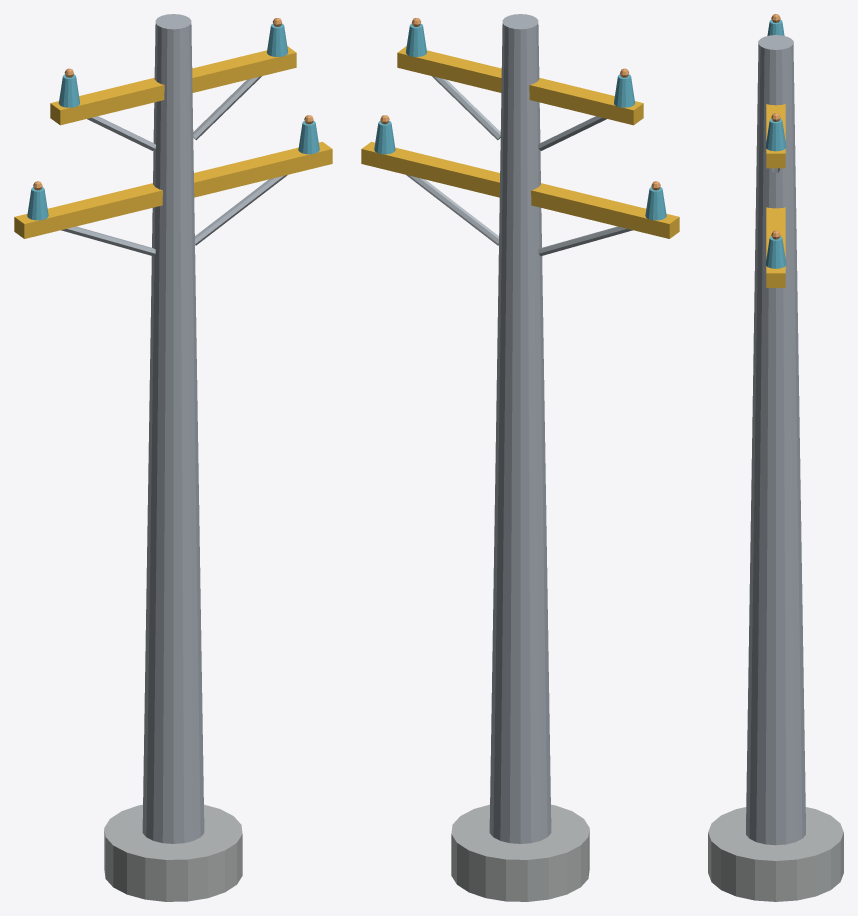
The model's file is ENERGY-014.glb.
The picture shows the model from 3 angles, left to right: view 1: azimuth 30°, elevation 25°; view 2: azimuth 150°, elevation 25°; view 3: azimuth 270°, elevation 25°; orthographic projection. The views are drawn at different scales.
Parts seen in each view (by area): view 1: ENERGY-014; view 2: ENERGY-014; view 3: ENERGY-014.
Boxes of the visible parts, left/top/right/bottom form: ENERGY-014: left=14, top=14, right=332, bottom=901; ENERGY-014: left=361, top=14, right=679, bottom=901; ENERGY-014: left=708, top=14, right=843, bottom=901.
Bounding box in the file's own units: 2.15 × 5.68 × 0.84.
